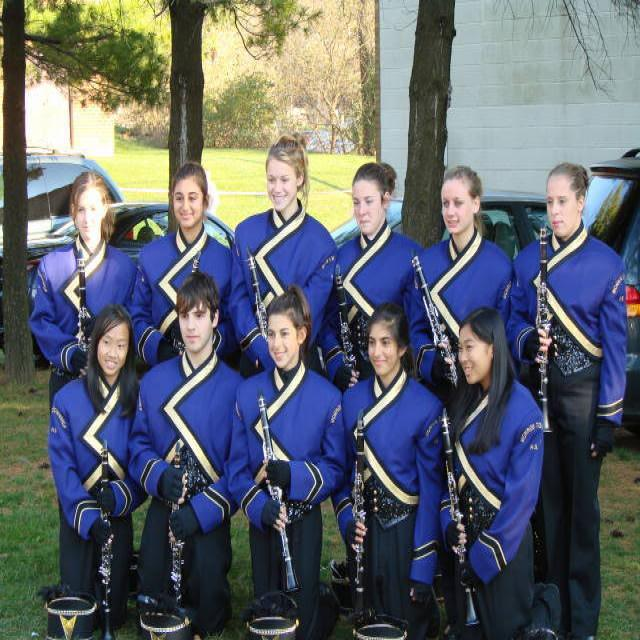clarinet: (438, 408, 486, 629), (254, 392, 304, 596), (409, 252, 462, 390), (94, 433, 118, 639), (350, 406, 371, 629), (170, 250, 202, 357), (168, 442, 188, 609), (538, 223, 552, 434), (334, 261, 361, 370), (245, 248, 272, 342), (76, 247, 90, 355)
